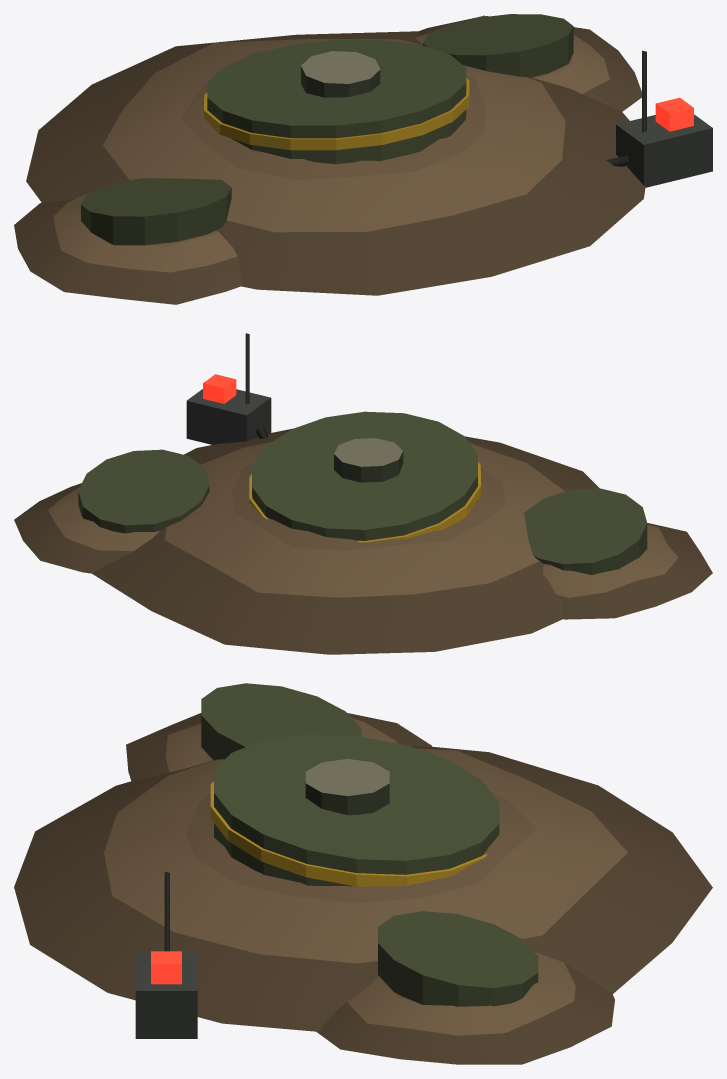
Rendered from defensa-carga.glb.
The picture shows the model from 3 angles, top to bottom: view 1: azimuth 30°, elevation 25°; view 2: azimuth 150°, elevation 25°; view 3: azimuth 270°, elevation 25°; orthographic projection. The views are drawn at different scales.
Visible parts, largest first — view 1: defensa-carga, brillo-luz; view 2: defensa-carga, brillo-luz; view 3: defensa-carga, brillo-luz.
Part boxes in pixels (bbox=[...]): defensa-carga: bbox=[14, 14, 712, 304]; brillo-luz: bbox=[655, 97, 693, 131]; defensa-carga: bbox=[14, 333, 712, 654]; brillo-luz: bbox=[203, 374, 236, 403]; defensa-carga: bbox=[14, 683, 712, 1064]; brillo-luz: bbox=[151, 951, 181, 984].
Size of the model in its own units: 1.93 by 0.34 by 1.58.
